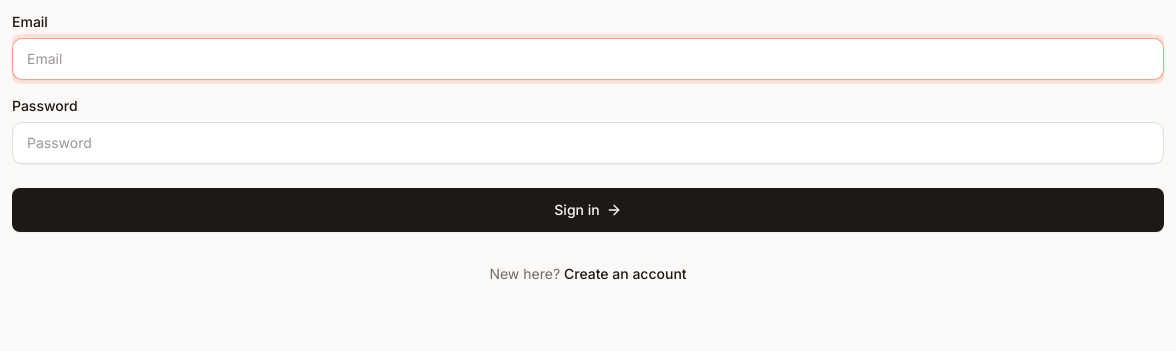
Test case: LoginForm › shows error message on login failure
Type "bad@example.com" into the field with placeholder "Email". click: (588, 59)
box: top-left (12, 38), bottom-right (1164, 80)
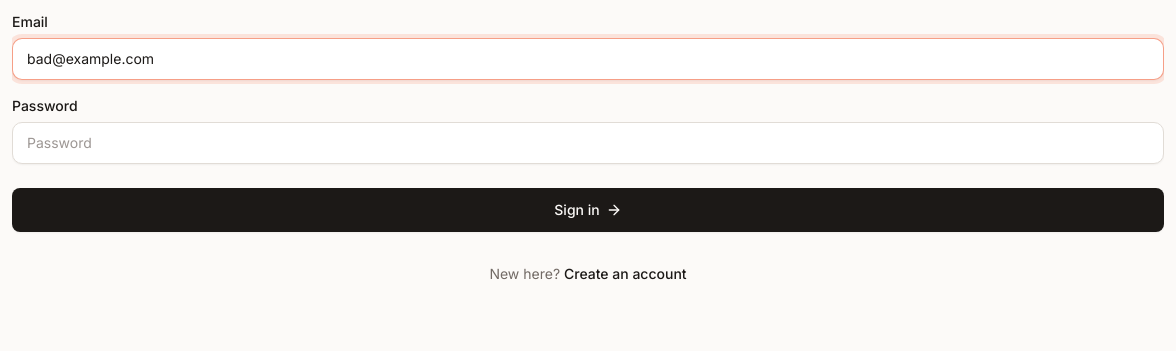
Type "wrongpass" into the password field with placeholder "Password". click: (588, 143)
box: top-left (12, 122), bottom-right (1164, 164)
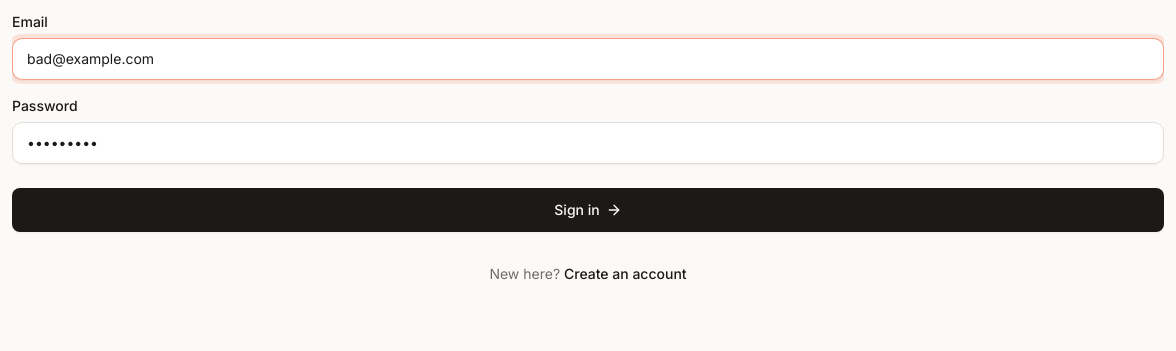
Click the button "Sign in". click: (588, 210)
box: top-left (12, 188), bottom-right (1164, 232)
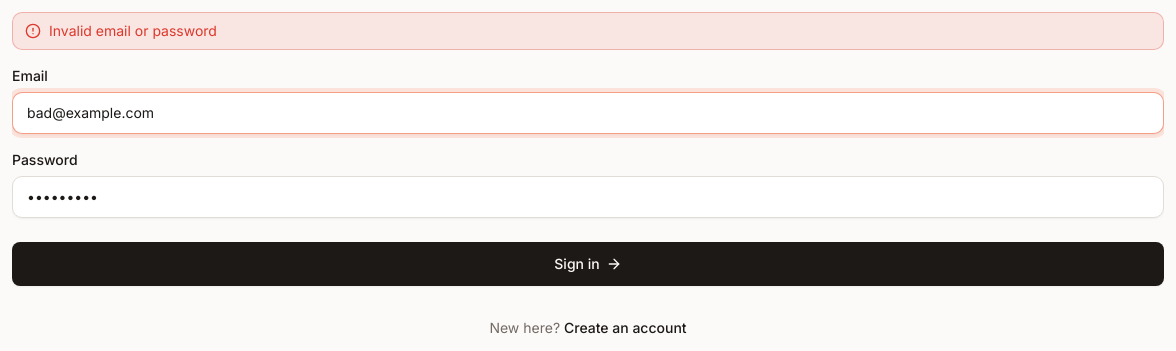
Expected: the text "Invalid email or password" is shown, top-left (12, 12), bottom-right (1164, 50)
